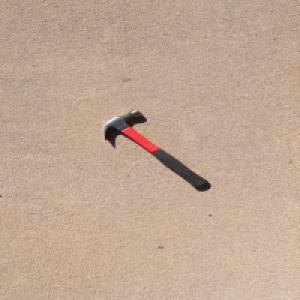Hammer: (101, 108, 209, 188)
